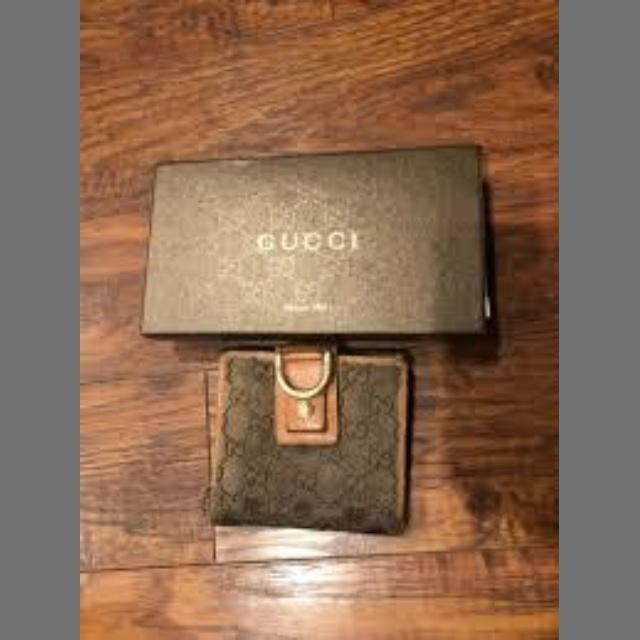Wallet: (201, 331, 459, 531)
